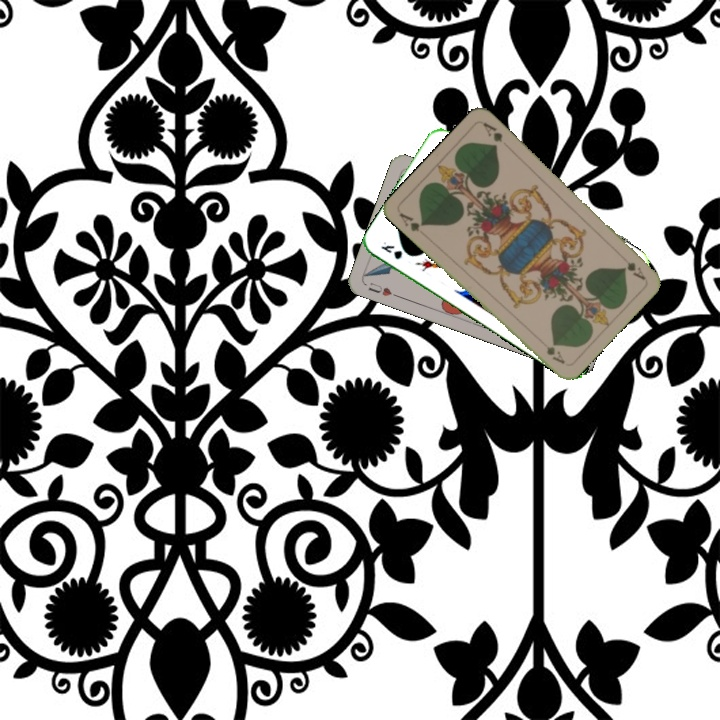GA: (619, 253, 648, 283), (395, 208, 427, 234)
GK: (377, 238, 405, 262)
HU: (364, 278, 401, 300)
